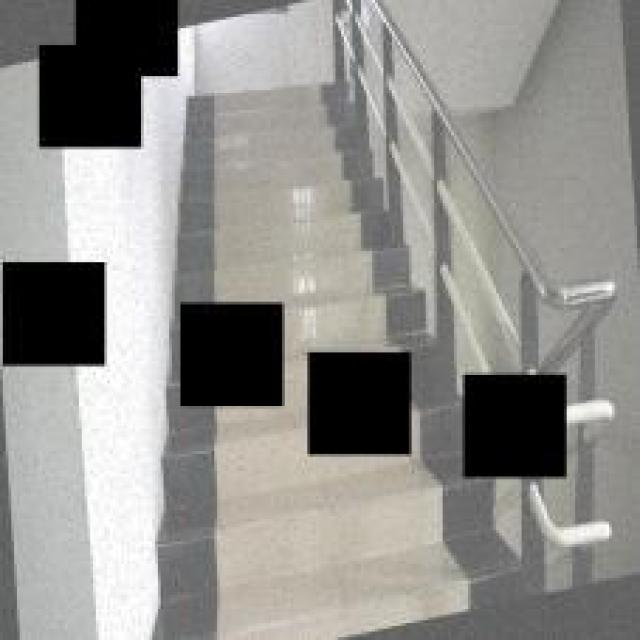upstair: (165, 475, 461, 638), (176, 89, 396, 295)
